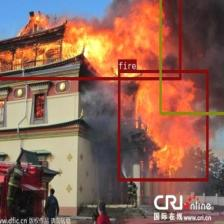fire: (0, 0, 181, 79), (118, 69, 208, 181)
smoke: (159, 0, 224, 114)
